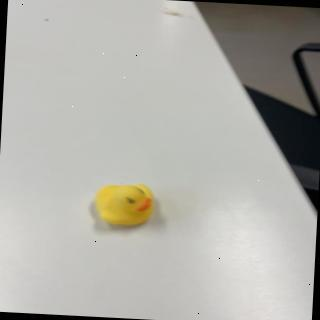duck_regular: (93, 182, 158, 229)
